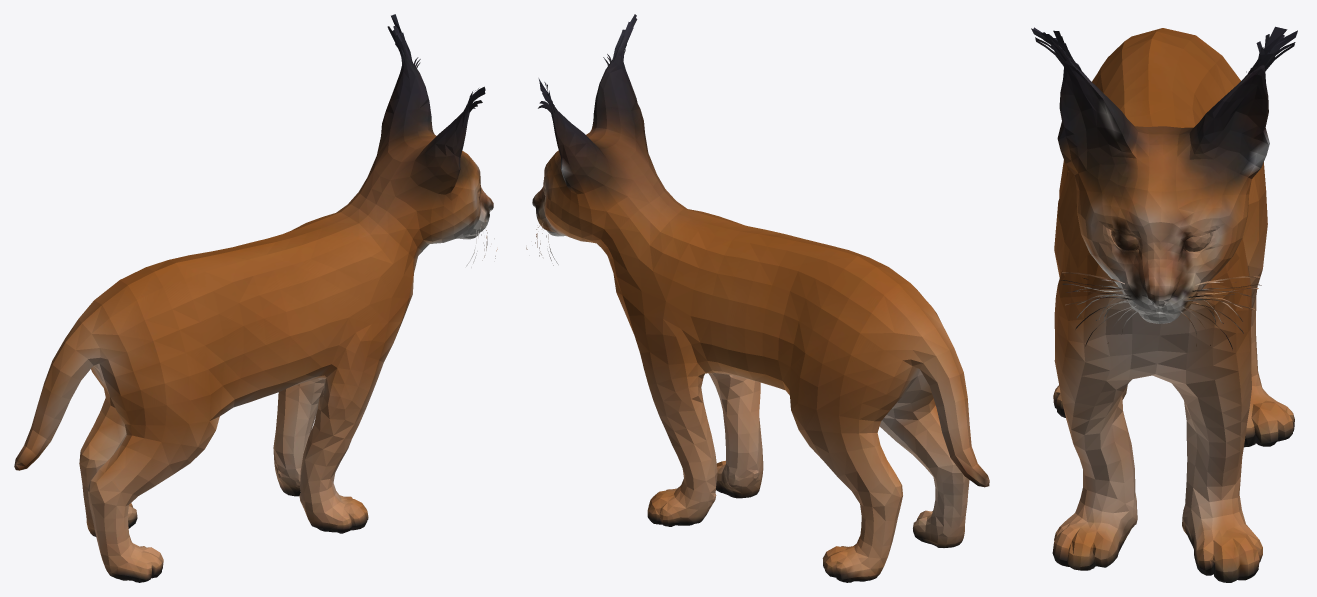
Rendered from caracal.pred.glb.
3 views of the same model, side by side, from view 1: azimuth 30°, elevation 25°; view 2: azimuth 150°, elevation 25°; view 3: azimuth 270°, elevation 25° (orthographic). The views are drawn at different scales.
Parts seen in each view (by area): view 1: root; view 2: root; view 3: root.
Boxes of the visible parts, box(x1,y1,x2,y2) form: root: box(14, 14, 497, 582); root: box(526, 14, 989, 582); root: box(1031, 26, 1297, 582).
Bounding box in the file's own units: 0.551 × 0.4923 × 0.1979.
1 material, 1 textured.
